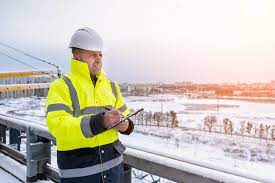Helmet: (66, 29, 102, 50)
Jacket: (46, 79, 125, 173)
